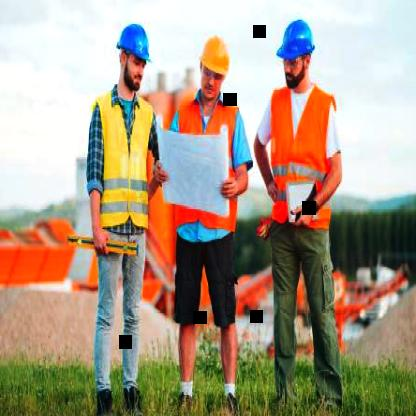helmet: (277, 11, 320, 94), (114, 15, 154, 96), (196, 27, 232, 108)
